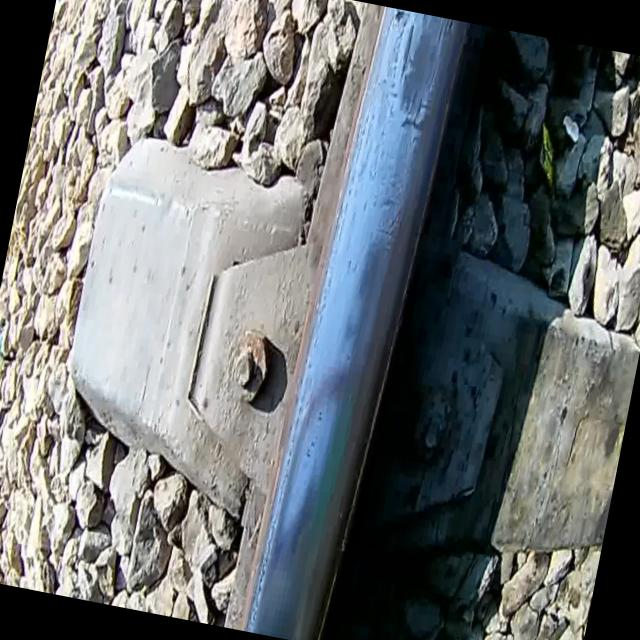Spallings: (388, 8, 408, 29)
Squats: (384, 11, 459, 140)
